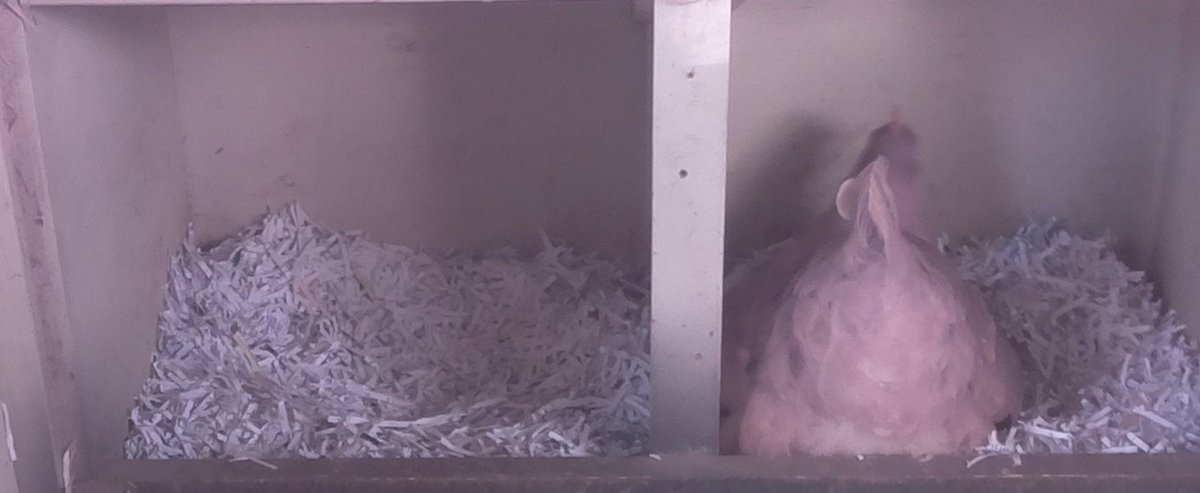hen: (736, 96, 1030, 457)
